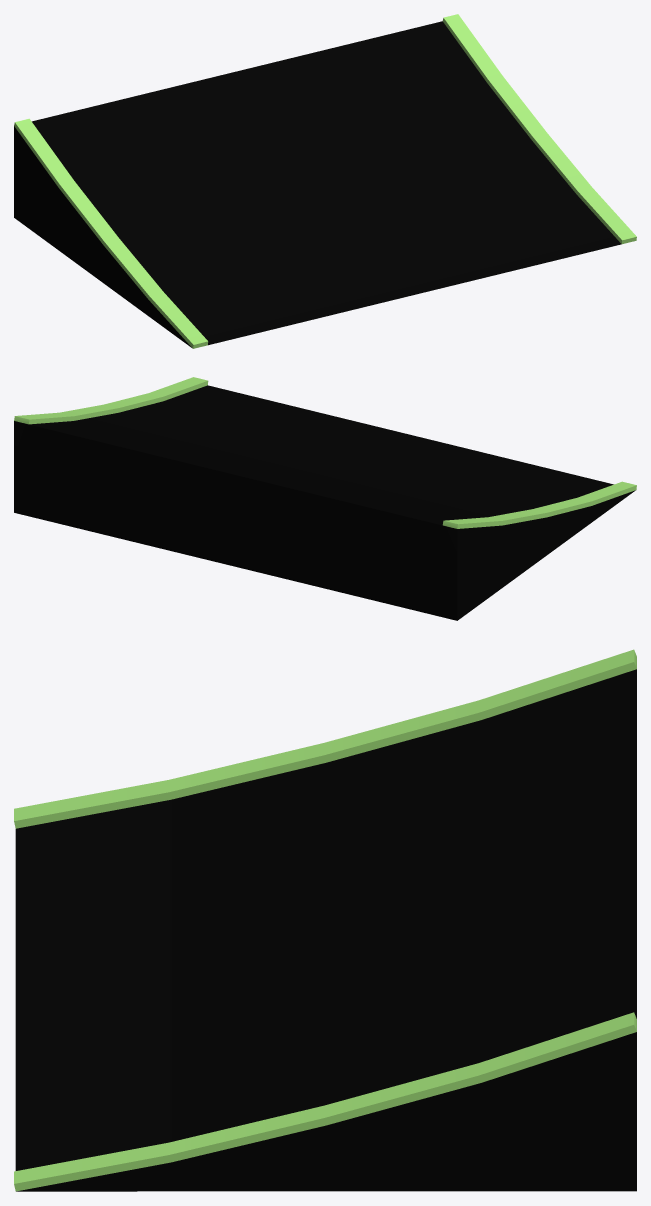
File: short ramp.fbx
The picture shows the model from 3 angles, top to bottom: view 1: azimuth 30°, elevation 25°; view 2: azimuth 150°, elevation 25°; view 3: azimuth 270°, elevation 25°; orthographic projection. The views are drawn at different scales.
Parts seen in each view (by area): view 1: Short Way.003; view 2: Short Way.003; view 3: Short Way.003.
Part boxes in pixels (x1,y1,x2,y2): Short Way.003: (14, 14, 636, 348); Short Way.003: (14, 377, 636, 620); Short Way.003: (14, 649, 636, 1191).
Size of the model in its own units: 7.39 by 5.18 by 1.53.
